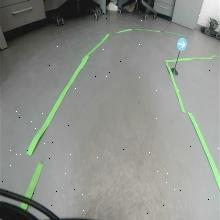right: (176, 37, 188, 52)
